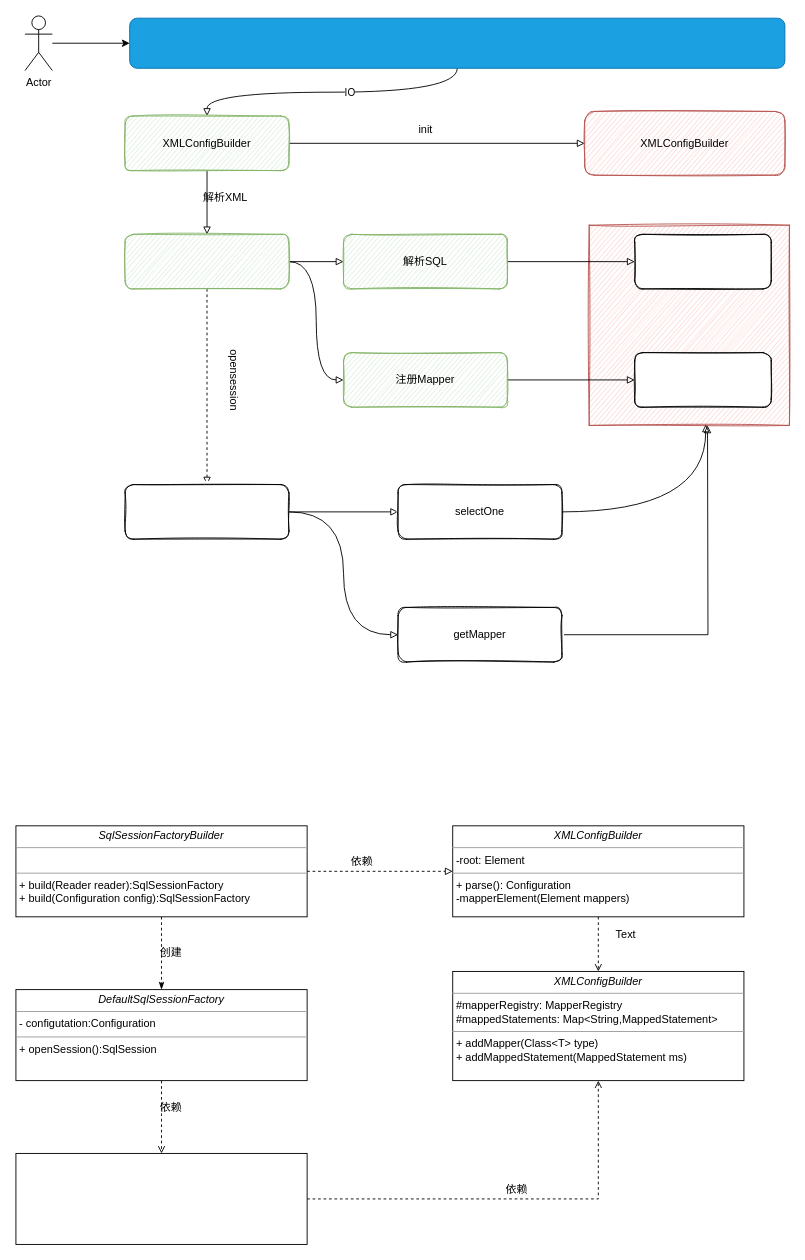
Some shapes in this 805 by 1260 pixel diagram are drawn without their labels. The shapes that lost their labels are listed below. From the top down, each one's box as (x1, y1, x2, y2) in pixels, then its label:
(129, 17, 785, 68): SqlSessionFactoryBuilder
(124, 233, 289, 289): parse
(634, 233, 771, 289): MappedStatement
(634, 352, 771, 407): MapperRegistry
(124, 484, 289, 539): DefaultSqlSession
(15, 1153, 307, 1244): DefaultSqlSession - configutation:Configuration + openSession():SqlSession
